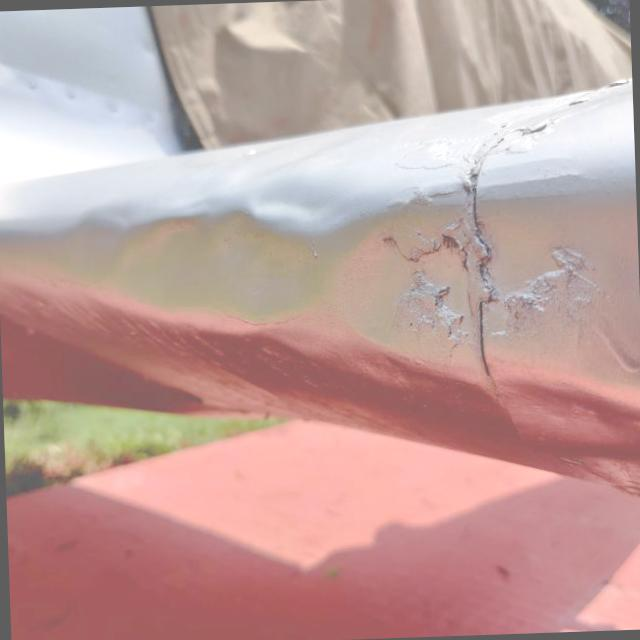dent: (80, 182, 338, 350)
